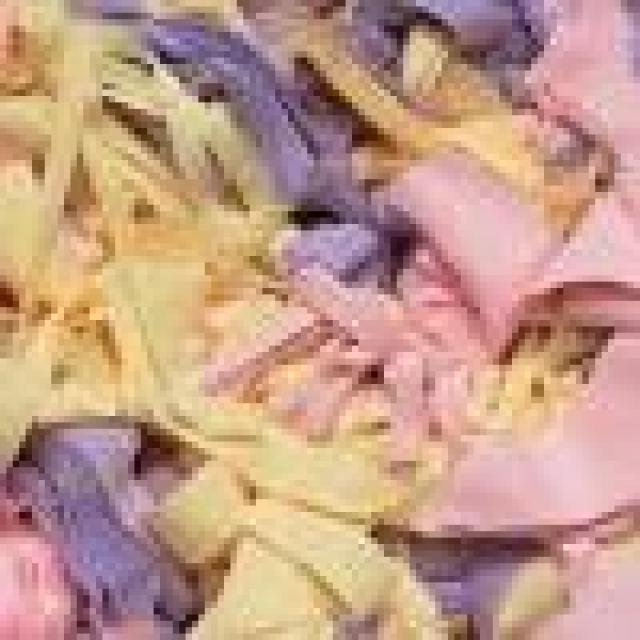Clothes -Biodegradable-: (3, 0, 640, 640)
